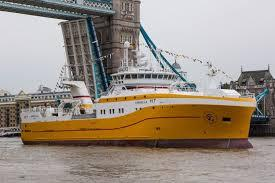Ship: (22, 54, 258, 149)
